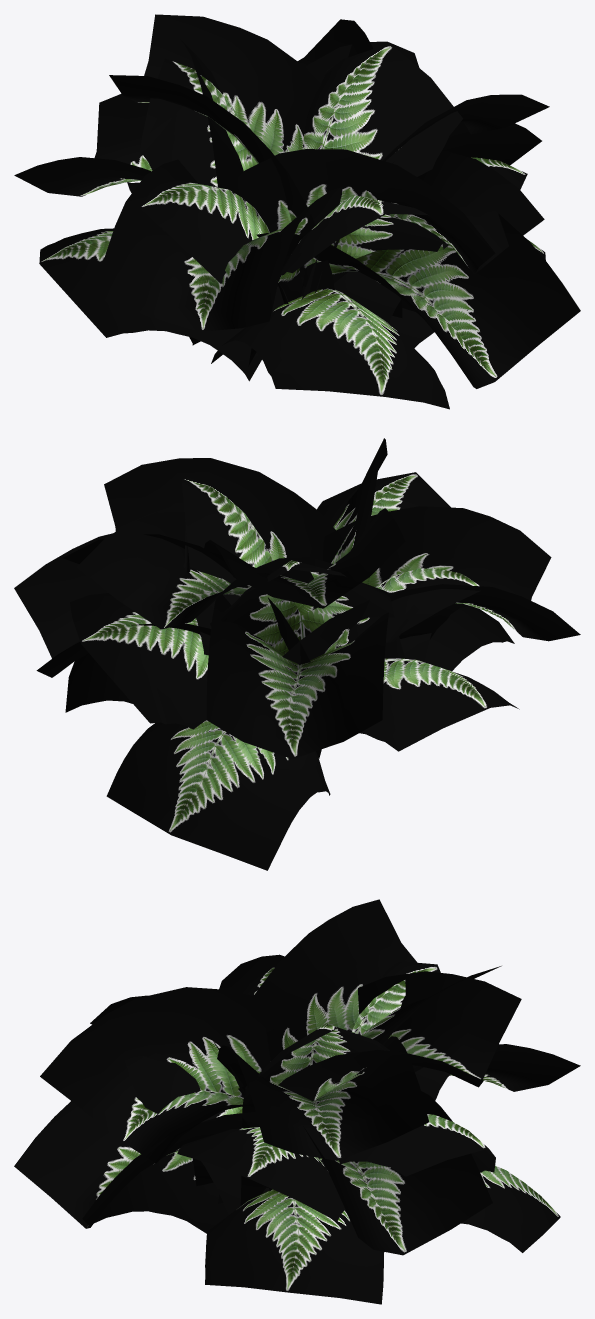
File: tree8.fbx
3 renders of one model, top to bottom at view 1: azimuth 30°, elevation 25°; view 2: azimuth 150°, elevation 25°; view 3: azimuth 270°, elevation 25°, orthographic. The views are drawn at different scales.
Parts seen in each view (by area): view 1: SM_MZRa_Fern_B053; view 2: SM_MZRa_Fern_B053; view 3: SM_MZRa_Fern_B053.
Boxes of the visible parts, bbox=[...] form: SM_MZRa_Fern_B053: bbox=[14, 14, 580, 409]; SM_MZRa_Fern_B053: bbox=[14, 438, 580, 870]; SM_MZRa_Fern_B053: bbox=[14, 899, 580, 1304].
Bounding box in the file's own units: 269 × 156 × 275.
